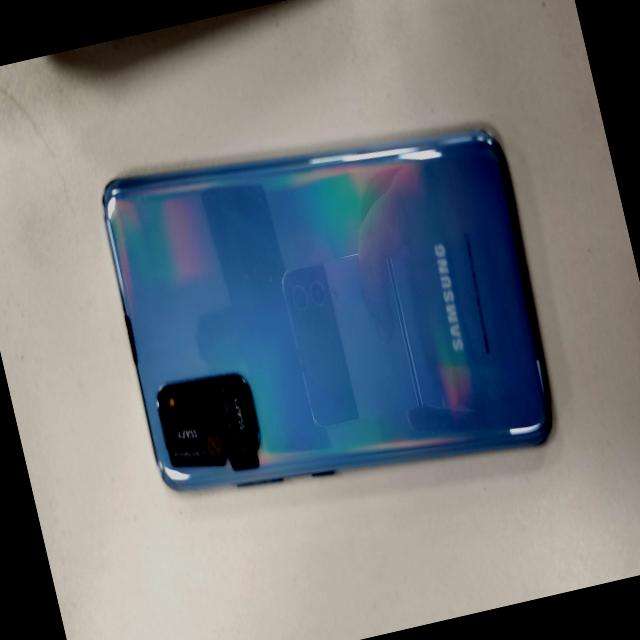phone: (91, 91, 571, 534)
sticker: (212, 378, 260, 470), (162, 412, 228, 472)
